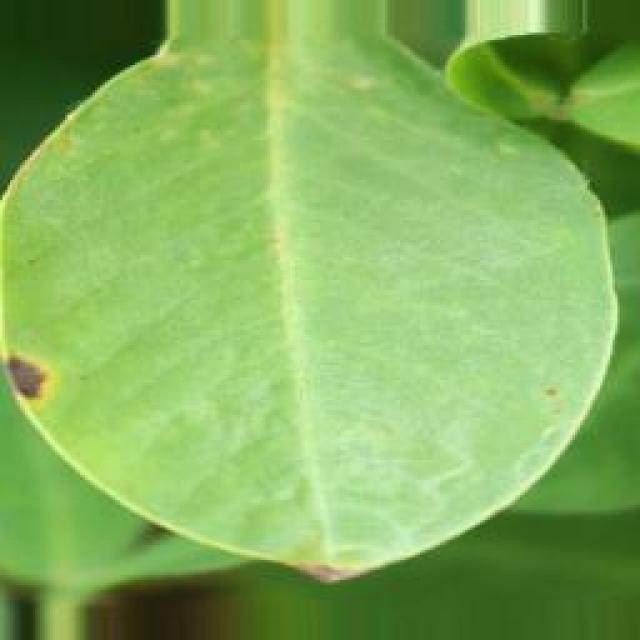Early_leaf_spot: (0, 324, 86, 436), (280, 525, 390, 602), (517, 352, 577, 436)
